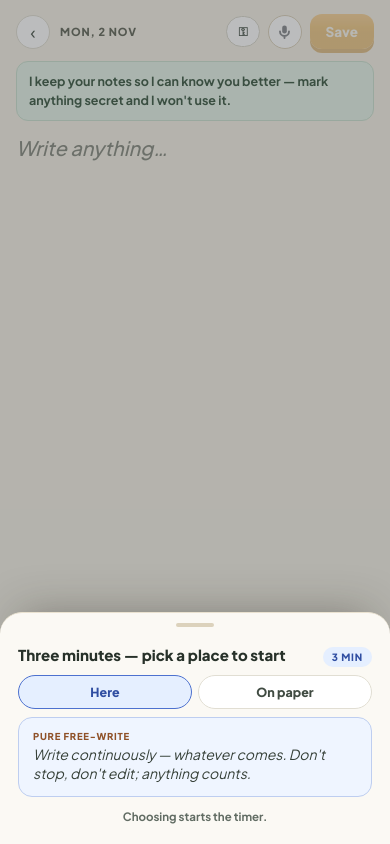
Test: the timed free-write, start to bell › rings once at the end, and says so without deciding anything
Click the button "PURE FREE-WRITE": point(195, 757) [18,717,372,797]
Wait 182000 ms
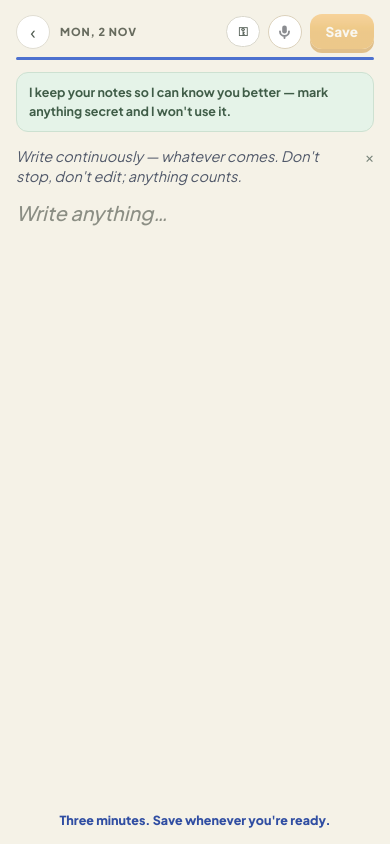
Expected: the text "Three minutes. Save whenever you're ready." is shown, [59,812,330,828]
